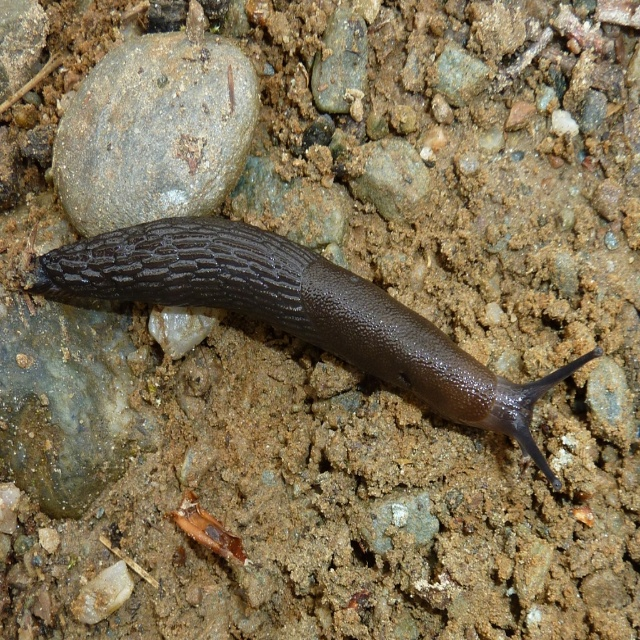Snail: (7, 215, 604, 492)
